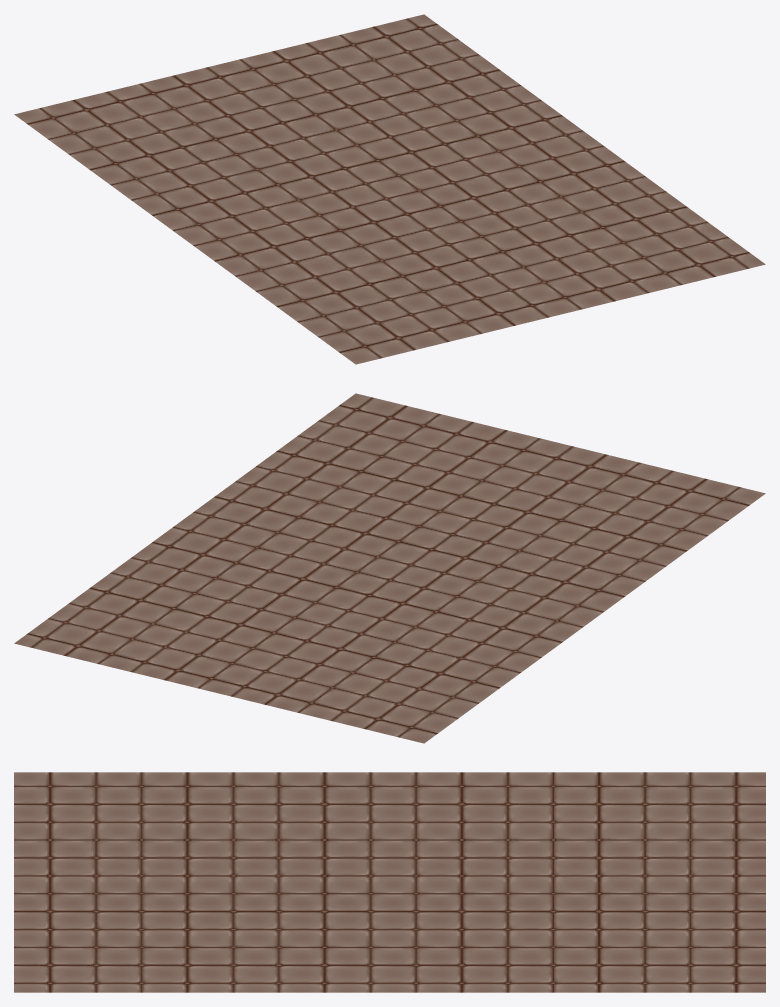
File: cafefloor.fbx
3 views of the same model, one above another, from view 1: azimuth 30°, elevation 25°; view 2: azimuth 150°, elevation 25°; view 3: azimuth 270°, elevation 25° (orthographic). The views are drawn at different scales.
Parts seen in each view (by area): view 1: floor; view 2: floor; view 3: floor.
Part boxes in pixels (x1=…): floor: x1=14, y1=14, x2=765, y2=364; floor: x1=14, y1=393, x2=765, y2=743; floor: x1=14, y1=772, x2=765, y2=992.
Size of the model in its own units: 1445 by 0.00034 by 2085.
